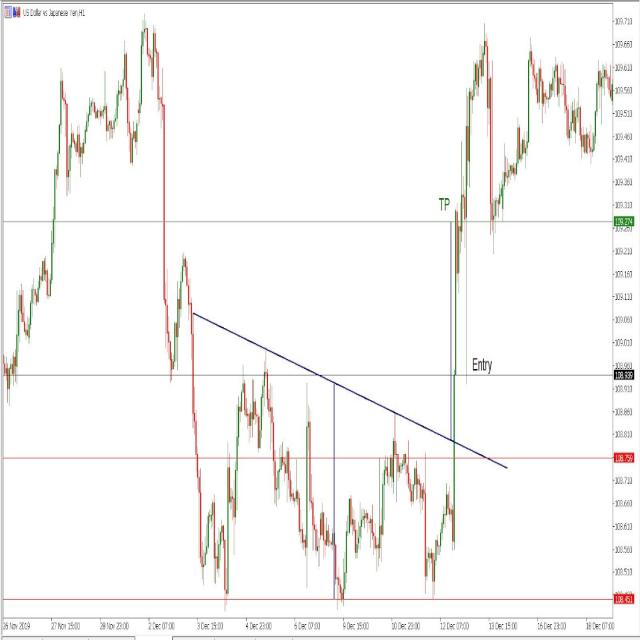Triple-Top: (188, 420, 461, 606)
